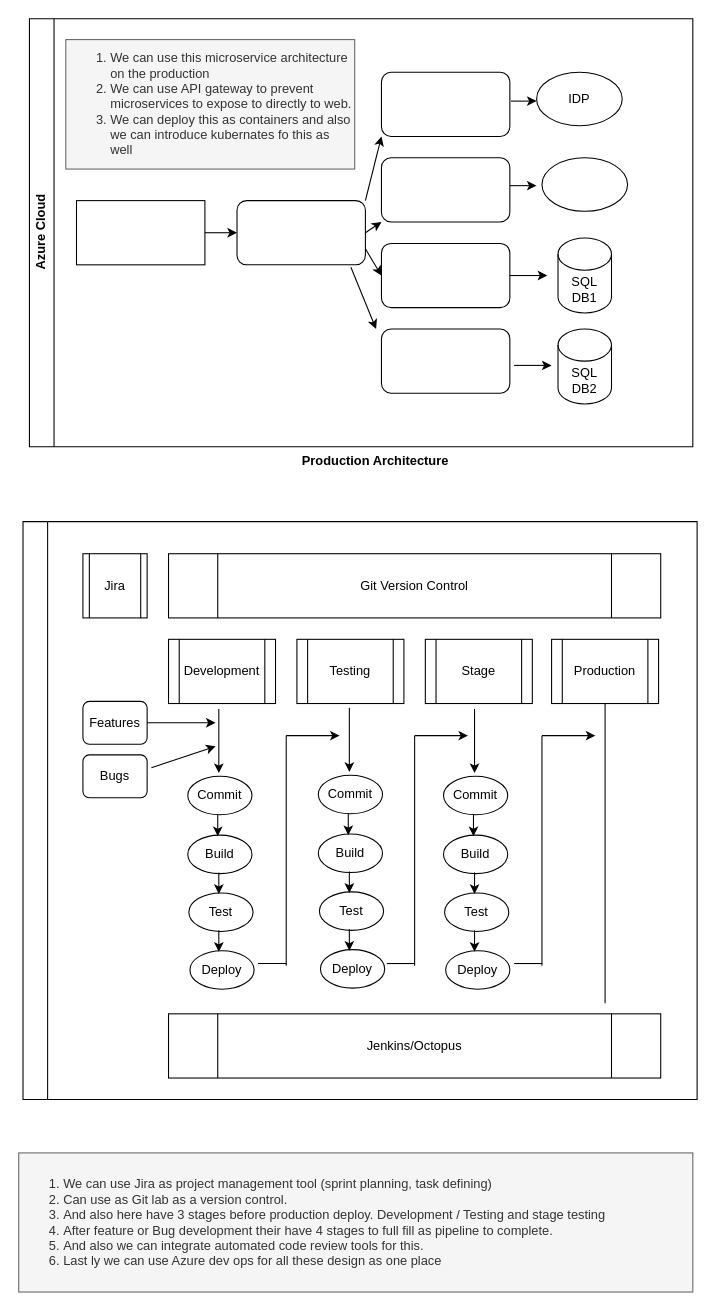
This 716x1311 diagram has some shape labels left out. Each missing label, with the centre of its shape:
"Api Gateway" goes at pixel 300 232.
"Authentication service" goes at pixel 445 103.
"Authotharization service" goes at pixel 445 189.
"CI CD Architecture" goes at pixel 359 810.
"Microservice 1" goes at pixel 445 275.
"Microservice 2" goes at pixel 445 360.
"Redis" goes at pixel 584 184.
"Web Application" goes at pixel 140 232.
